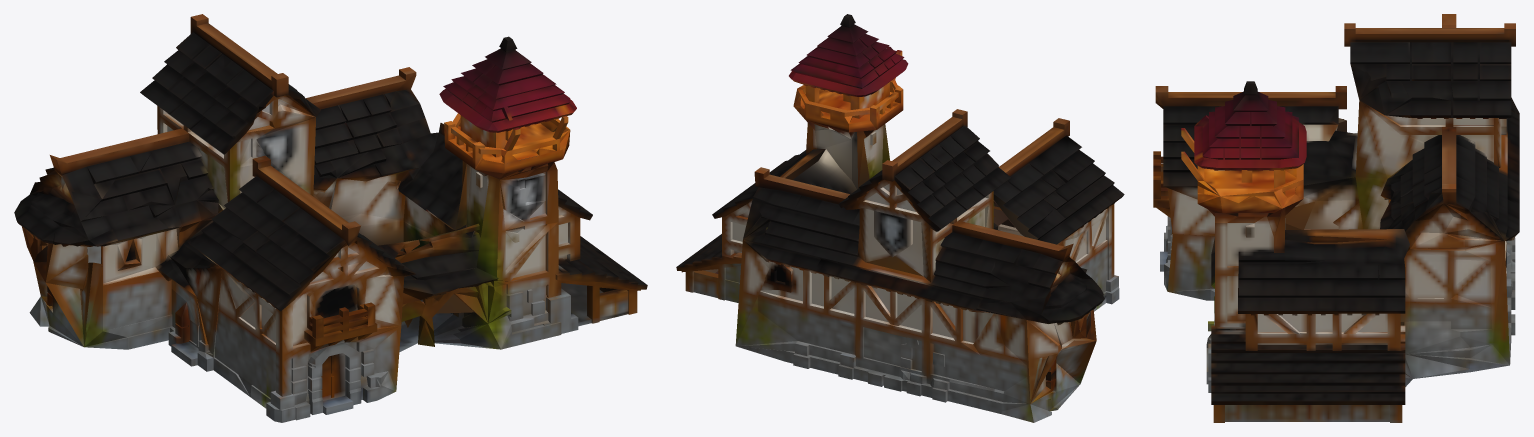
The model's file is fortress.fbx.
3 renders of one model, left to right at view 1: azimuth 30°, elevation 25°; view 2: azimuth 150°, elevation 25°; view 3: azimuth 270°, elevation 25°, orthographic. The views are drawn at different scales.
Visible parts, largest first — view 1: texture_pbr_v128; view 2: texture_pbr_v128; view 3: texture_pbr_v128.
Part boxes in pixels (<box>): texture_pbr_v128: <box>14,14,647,422</box>; texture_pbr_v128: <box>676,14,1124,422</box>; texture_pbr_v128: <box>1153,14,1519,422</box>.
Size of the model in its own units: 190 by 104 by 121.
Materials: 1 (1 with a texture image).
